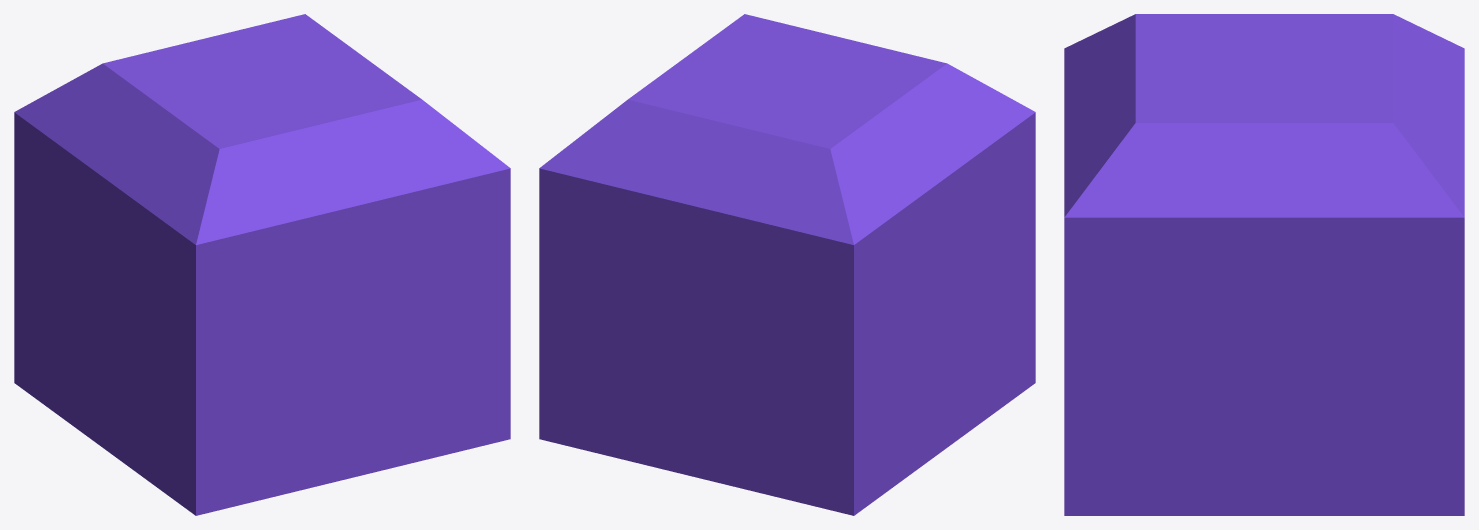
3 views of the same model, side by side, from view 1: azimuth 30°, elevation 25°; view 2: azimuth 150°, elevation 25°; view 3: azimuth 270°, elevation 25° (orthographic). The views are drawn at different scales.
Parts seen in each view (by area): view 1: Cube; view 2: Cube; view 3: Cube.
Boxes of the visible parts, bbox=[...] form: Cube: bbox=[14, 14, 510, 515]; Cube: bbox=[539, 14, 1035, 515]; Cube: bbox=[1064, 14, 1464, 515].
Size of the model in its own units: 2 by 2 by 2.
